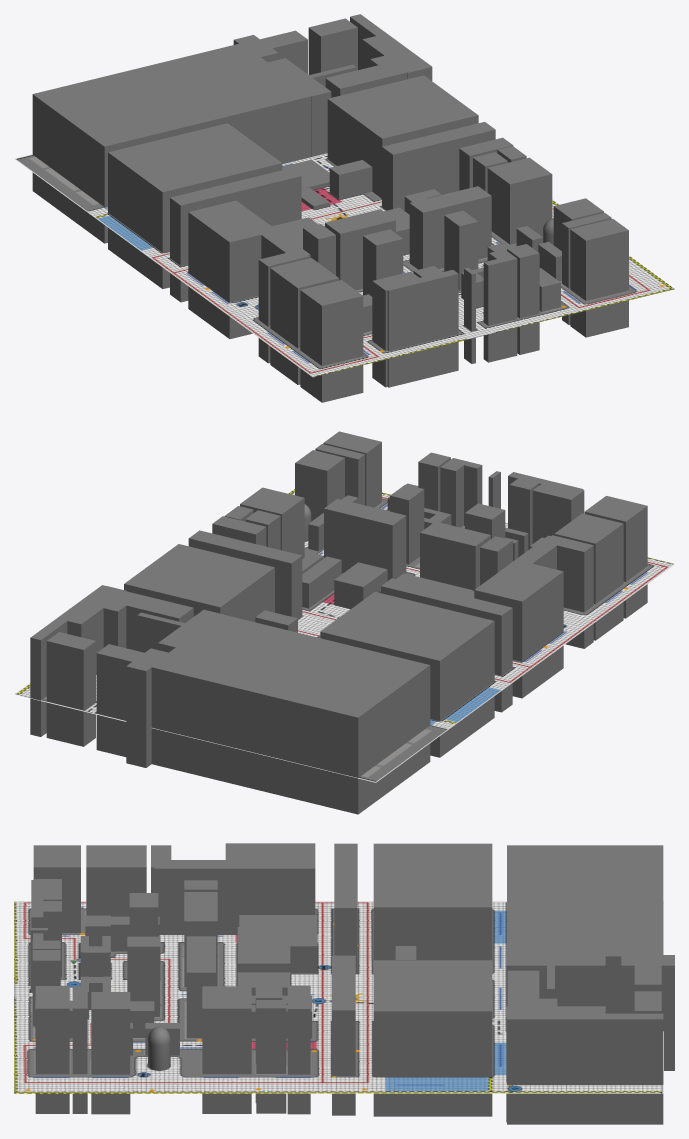
File: MAPBLOCKOUT.fbx
The picture shows the model from 3 angles, top to bottom: view 1: azimuth 30°, elevation 25°; view 2: azimuth 150°, elevation 25°; view 3: azimuth 270°, elevation 25°; orthographic projection. The views are drawn at different scales.
Visible parts, largest first — view 1: r__13_, map, r, r__1_, r__9_, r__6_, r__12_, r__11_, r__8_, r__2_, r__10_, r__3_ (+28 smaller); view 2: r__13_, r, map, r__1_, r__9_, r__16_, r__3_, r__8_, r__59_, r__4_, r__18_, r__2_ (+28 smaller); view 3: map, r__13_, r__1_, r__14_, r, r__9_, r__10_, r__45_, r__48_, r__59_, r__11_, r__20_ (+30 smaller).
Part boxes in pixels (box(x1,y1,x2,y2)): r__13_: box(32, 43, 312, 243); map: box(14, 153, 674, 377); r: box(108, 123, 282, 288); r__1_: box(327, 75, 478, 198); r__9_: box(188, 200, 277, 338); r__6_: box(387, 270, 458, 387); r__12_: box(300, 280, 363, 402); r__11_: box(570, 219, 628, 337); r__8_: box(170, 168, 301, 302); r__2_: box(382, 122, 495, 210); r__10_: box(487, 157, 552, 244); r__3_: box(409, 186, 491, 269); r__13_: box(150, 614, 430, 814); r: box(320, 592, 494, 757); map: box(14, 489, 674, 782); r__1_: box(124, 544, 274, 622); r__9_: box(474, 560, 563, 698); r__16_: box(46, 632, 95, 746); r__3_: box(324, 498, 406, 580); r__8_: box(381, 578, 512, 712); r__59_: box(554, 513, 623, 640); r__4_: box(420, 521, 490, 590); r__18_: box(96, 644, 144, 756); r__2_: box(188, 530, 302, 618); map: box(14, 901, 663, 1093); r__13_: box(507, 845, 663, 1013); r__1_: box(373, 960, 492, 1116); r__14_: box(507, 1013, 663, 1124); r: box(373, 843, 492, 960); r__9_: box(225, 843, 315, 914); r__10_: box(202, 986, 251, 1113); r__45_: box(154, 860, 244, 934); r__48_: box(91, 992, 130, 1114); r__59_: box(86, 845, 146, 916); r__11_: box(35, 986, 69, 1113); r__20_: box(506, 955, 605, 1006).
Bounding box in the file's own units: 53898 × 14969 × 78378.
